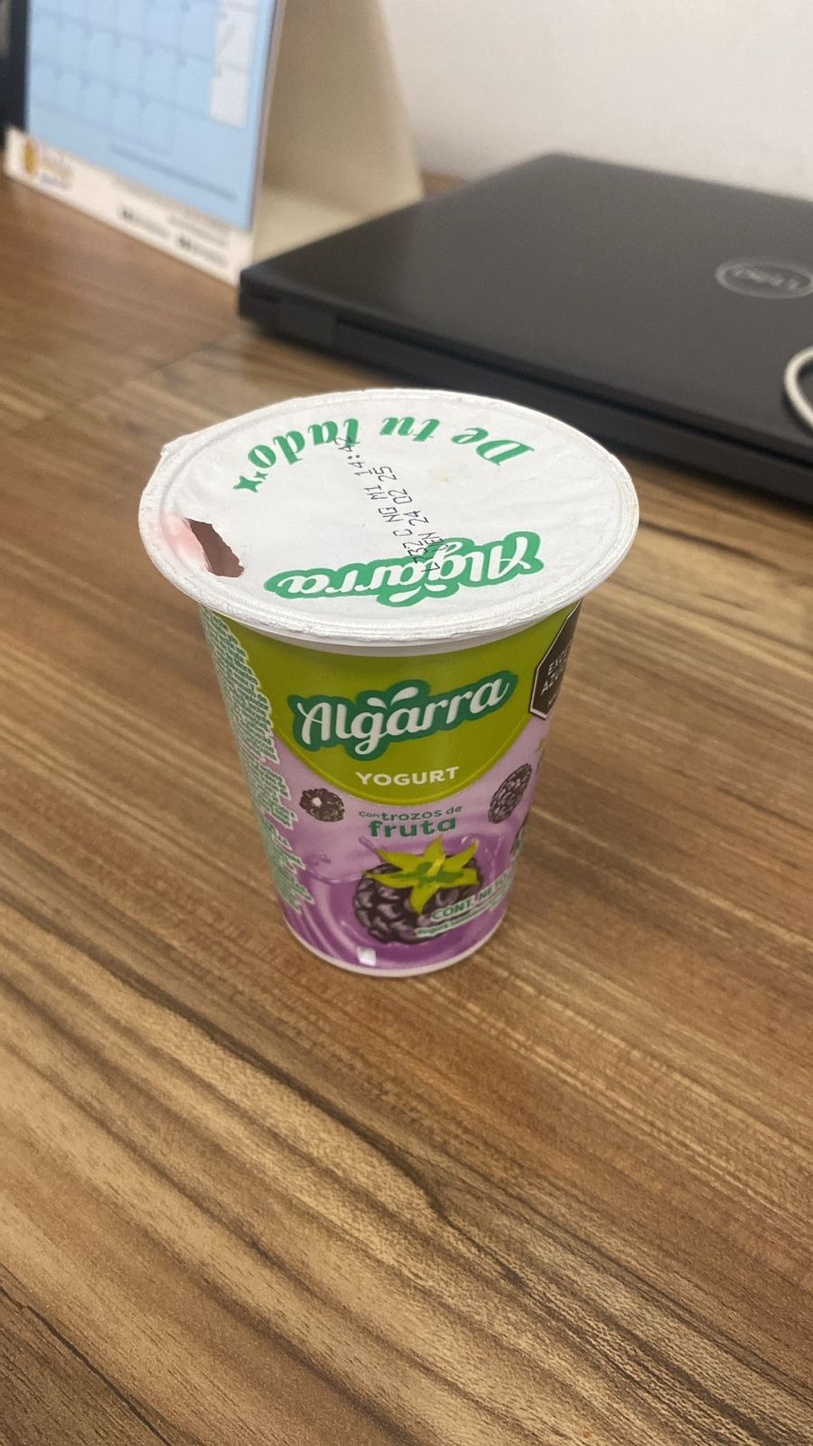Plastico: (133, 387, 641, 980)
